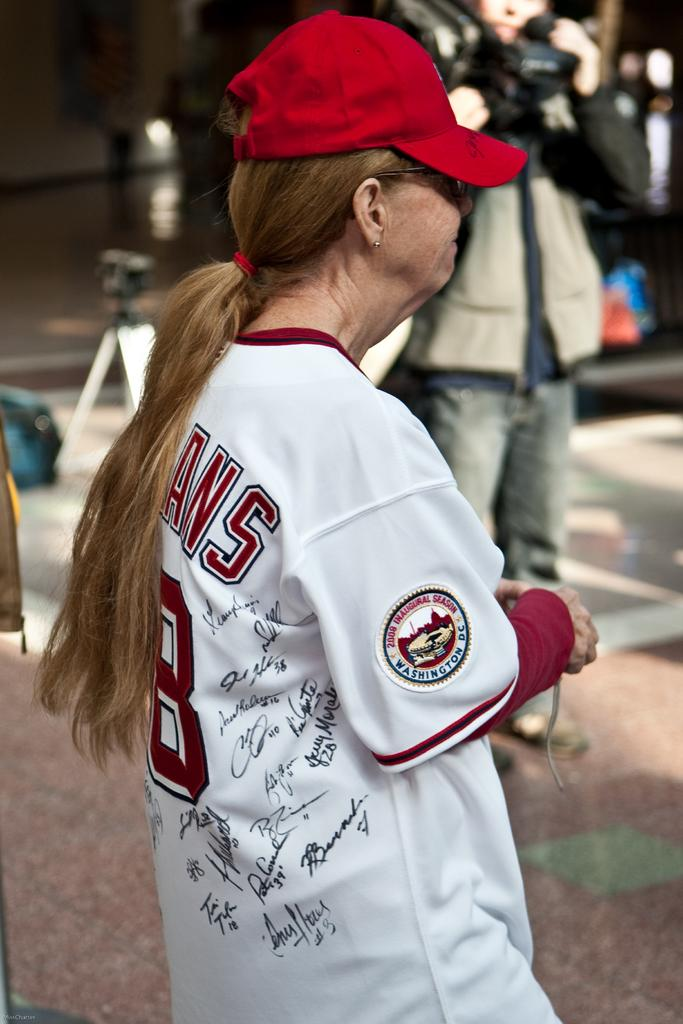Hat: (222, 7, 532, 192)
